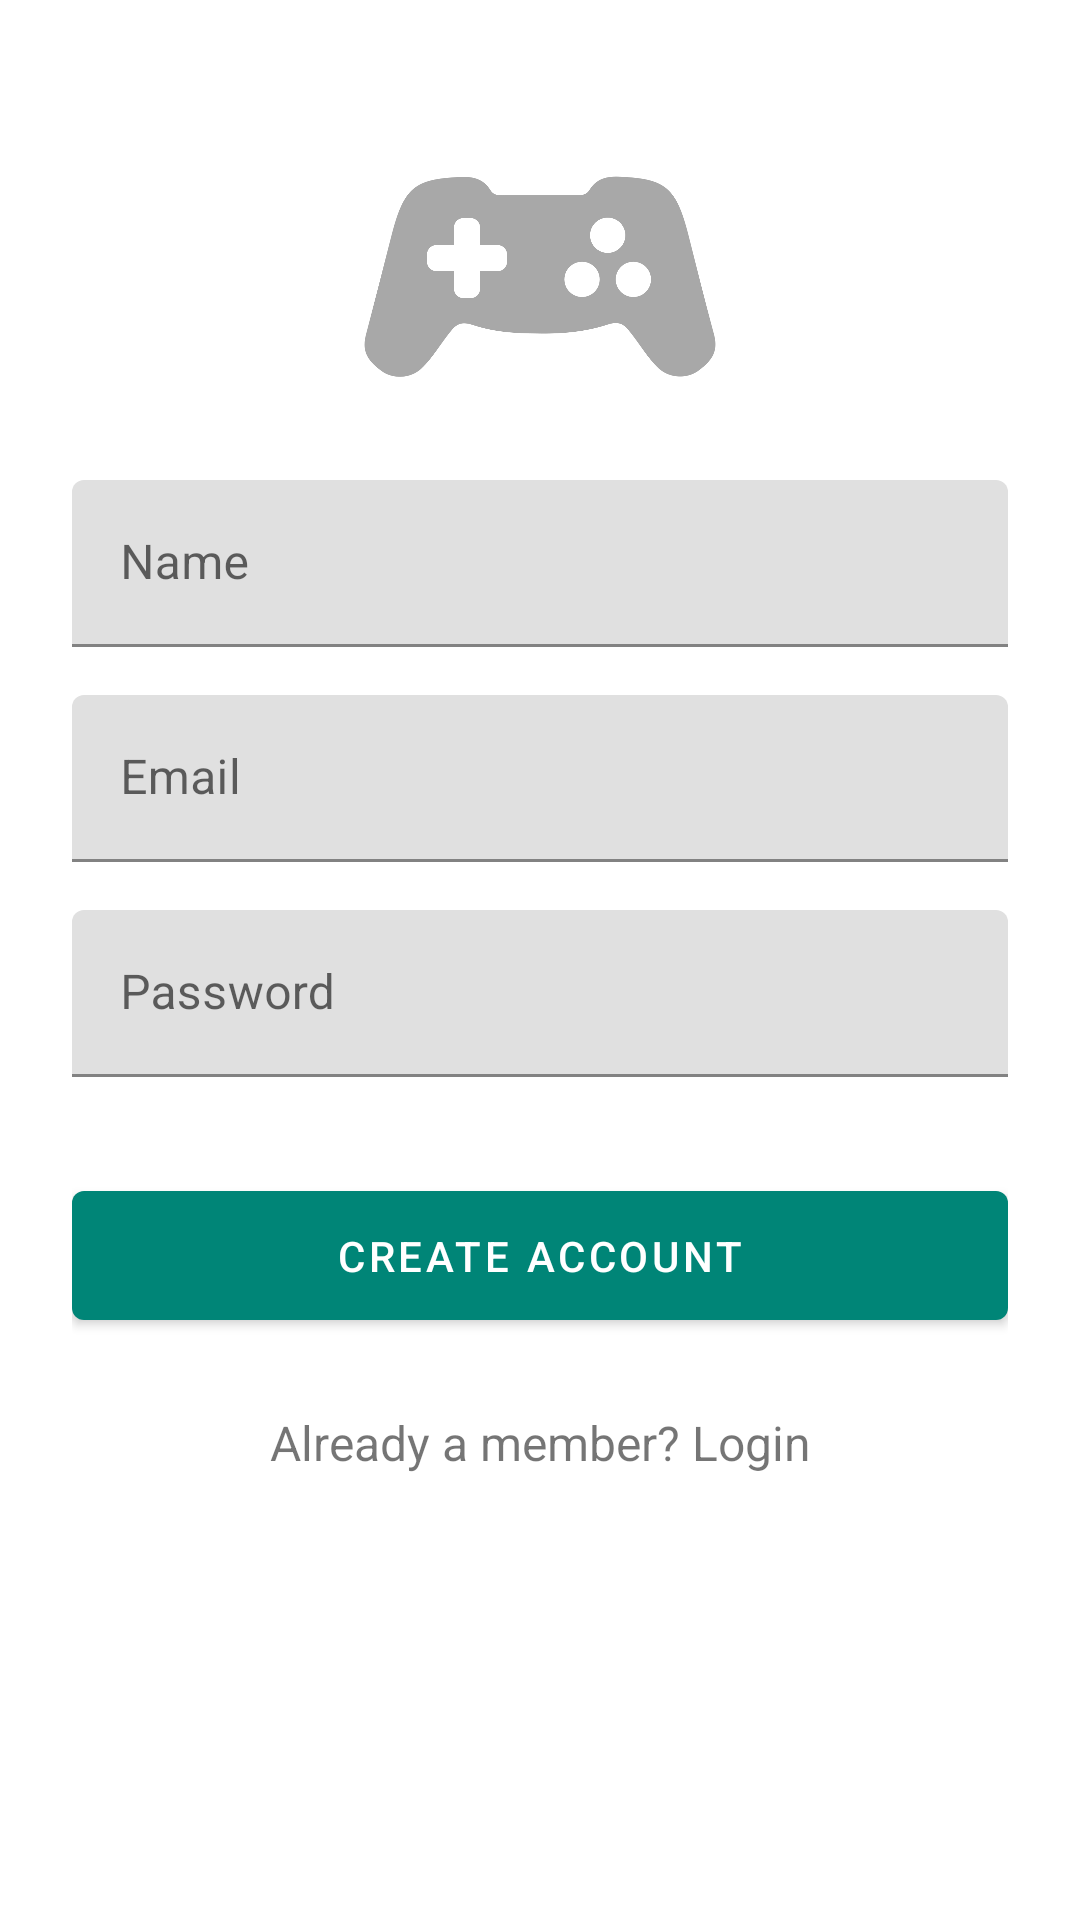

Where to tap for icons on this 1080×1920 app screen, as (x=x, y=y):
controller: (x=540, y=276)
